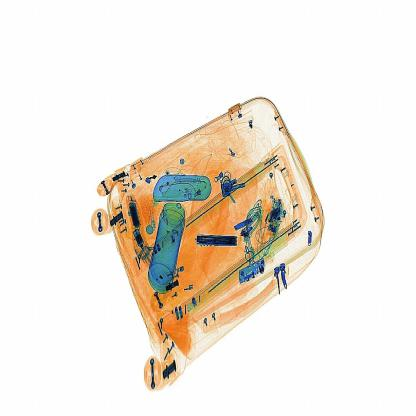scissors: (194, 230, 242, 252)
